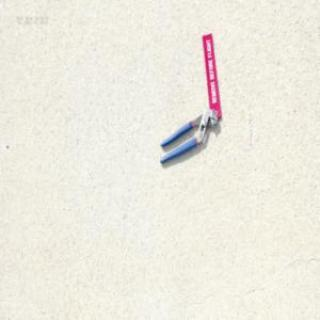LuggageTagtrack_idkeyframe: (200, 34, 220, 117)
Pliertrack_idkeyframe: (158, 108, 217, 163)
